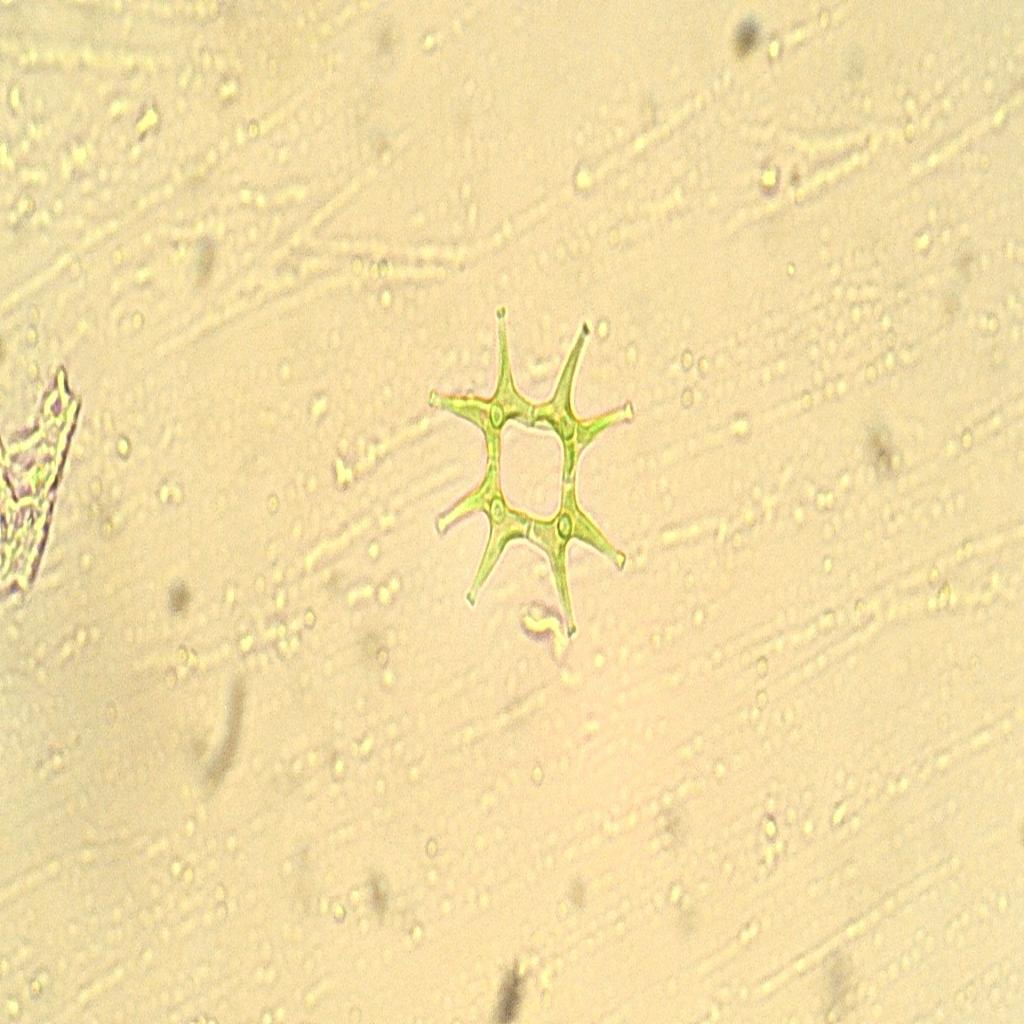Pediastrum_CO: (421, 283, 652, 672)
